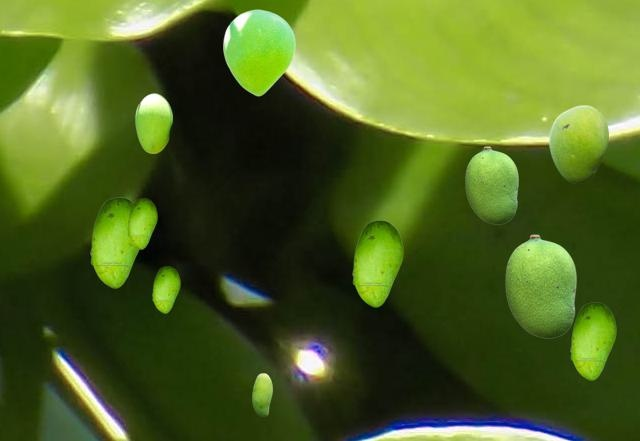green_mango: (505, 234, 575, 337), (223, 9, 294, 95), (549, 105, 607, 182), (90, 197, 139, 287), (352, 220, 402, 306), (465, 146, 517, 223), (570, 302, 615, 379), (135, 93, 171, 152), (127, 198, 156, 248), (152, 266, 179, 312), (252, 373, 271, 415)
